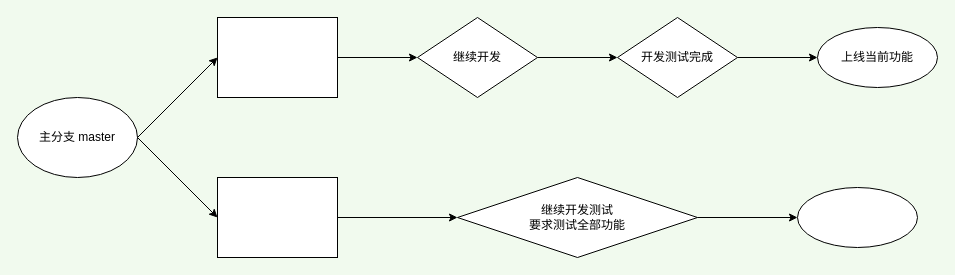
This 955x275 diagram has some shape labels left out. Each missing label, with the centre of its shape:
"分支 colleges" belongs at (x=277, y=57).
"分支 forces" belongs at (x=277, y=217).
"继续开发测试" belongs at (x=857, y=217).
